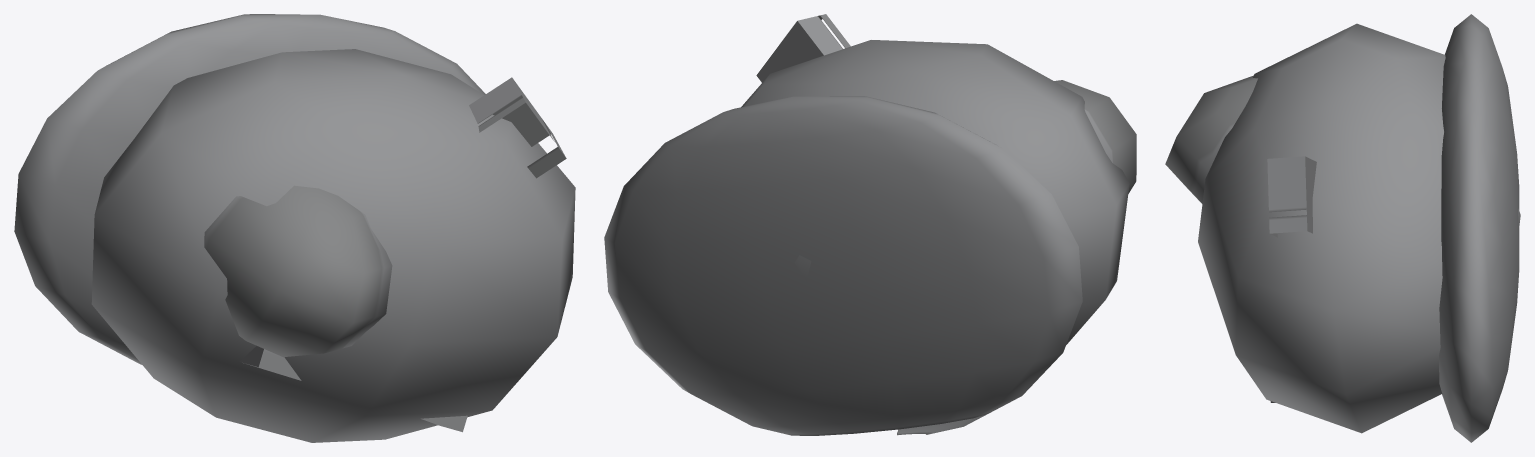
3 views of the same model, side by side, from view 1: azimuth 30°, elevation 25°; view 2: azimuth 150°, elevation 25°; view 3: azimuth 270°, elevation 25° (orthographic). The views are drawn at different scales.
Bounding box in the file's own units: 0.1779 × 0.1262 × 0.1269.
